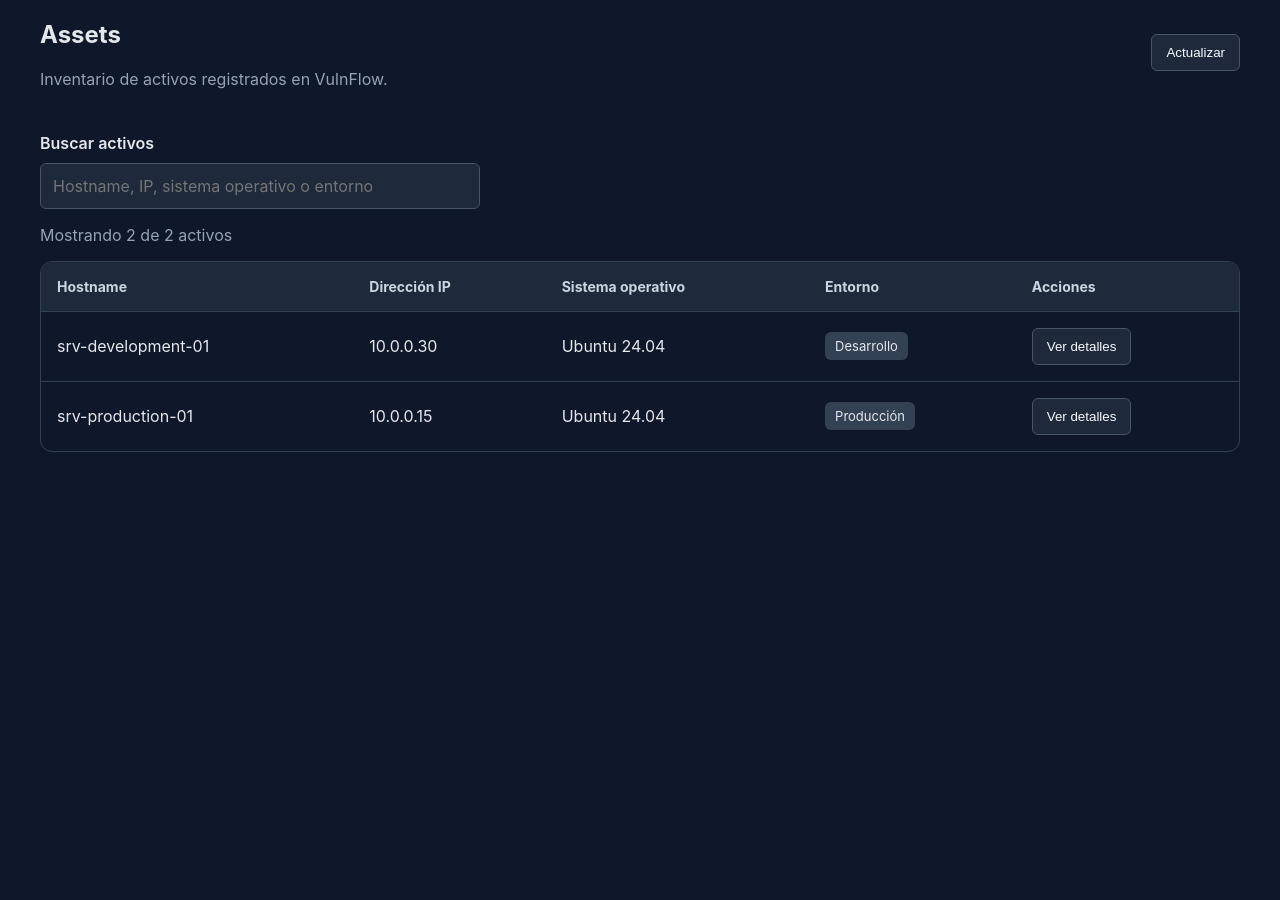
Scenario: AssetsPage › cierra los detalles anteriores al cambiar la búsqueda
expect the text "srv-development-01" is shown: met, box [41,311,353,381]
Click the button "Ver detalles" in the row of "srv-development-01" at (1082, 346), box [1032,328,1132,365]
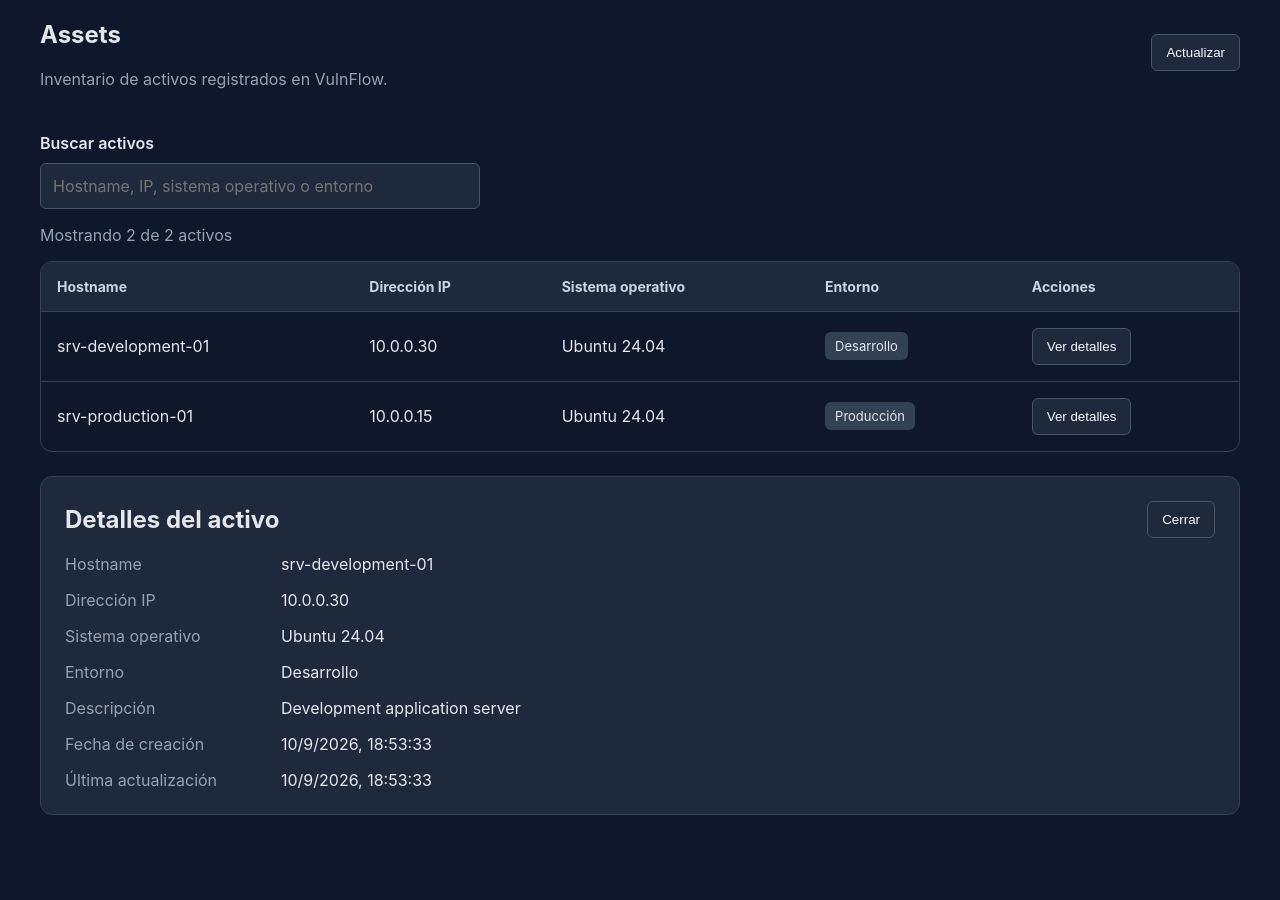
expect the text "Development application server" is shown: met, box [281,698,521,718]
Type "srv-production-01" into the search field labelled "Buscar activos" at (260, 186), box [40,163,480,209]
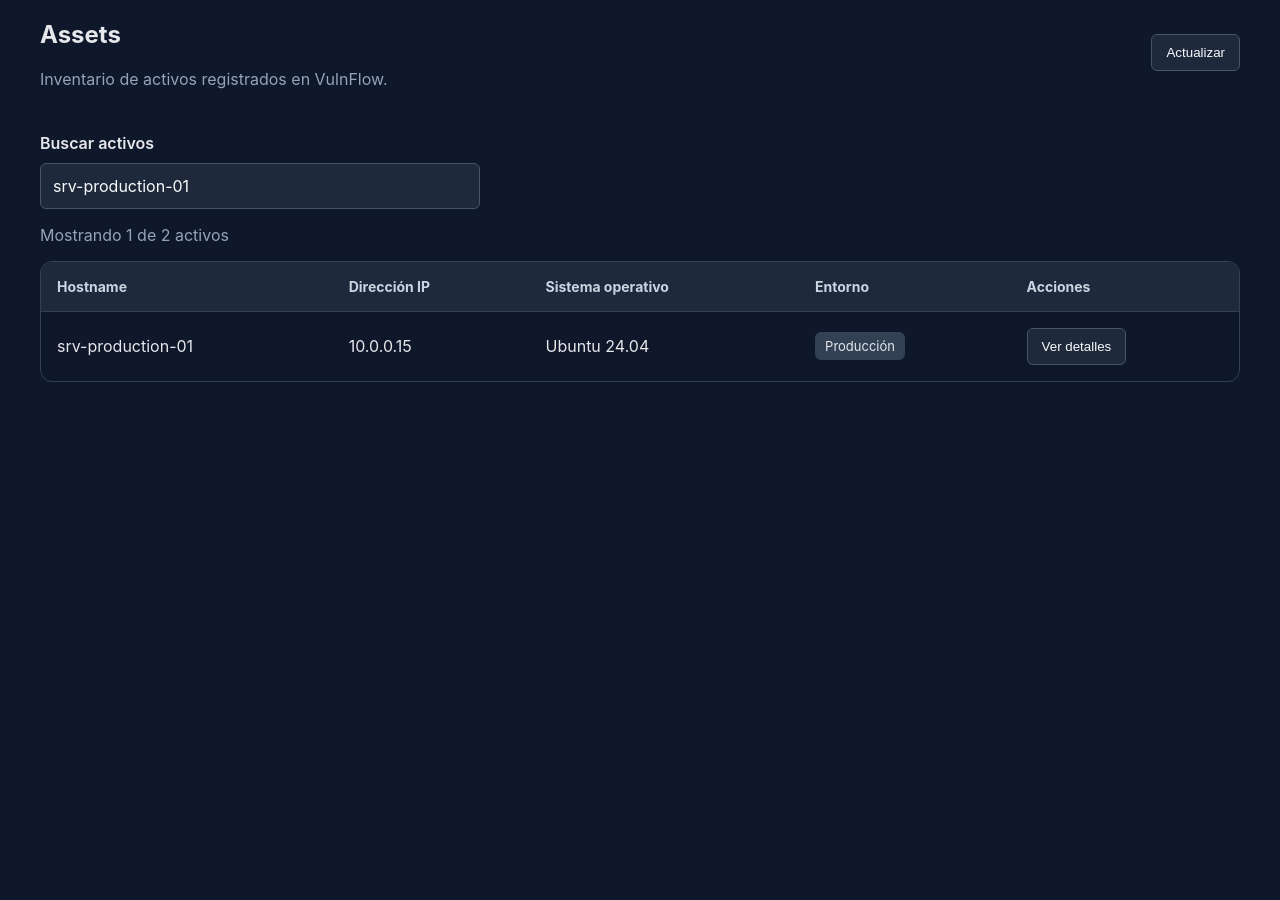
expect the text "srv-production-01" is shown: met, box [41,311,333,381]
expect the heading "Detalles del activo" is gone: met
